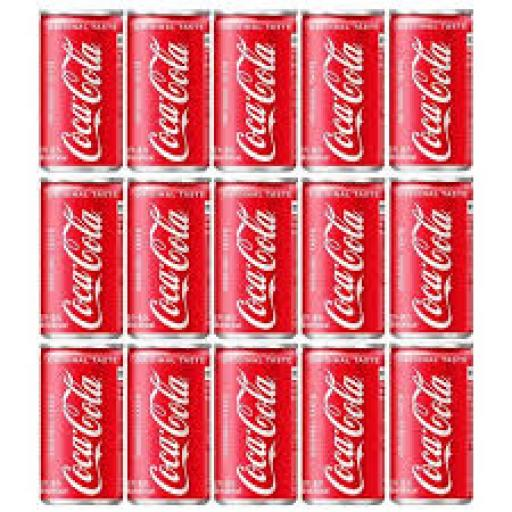Coca: (34, 0, 126, 170), (208, 336, 298, 507), (296, 344, 388, 506), (36, 176, 125, 342), (212, 5, 300, 172), (384, 14, 473, 176), (127, 5, 211, 175), (389, 179, 476, 343), (300, 9, 385, 175), (388, 344, 474, 508), (34, 345, 124, 500), (126, 178, 210, 340), (216, 180, 300, 340), (304, 181, 386, 341), (129, 340, 207, 498)
